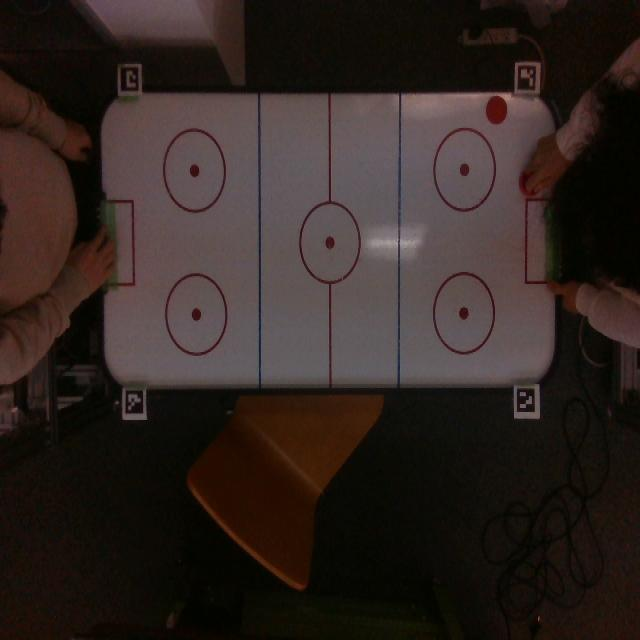puck: (486, 96, 508, 125)
